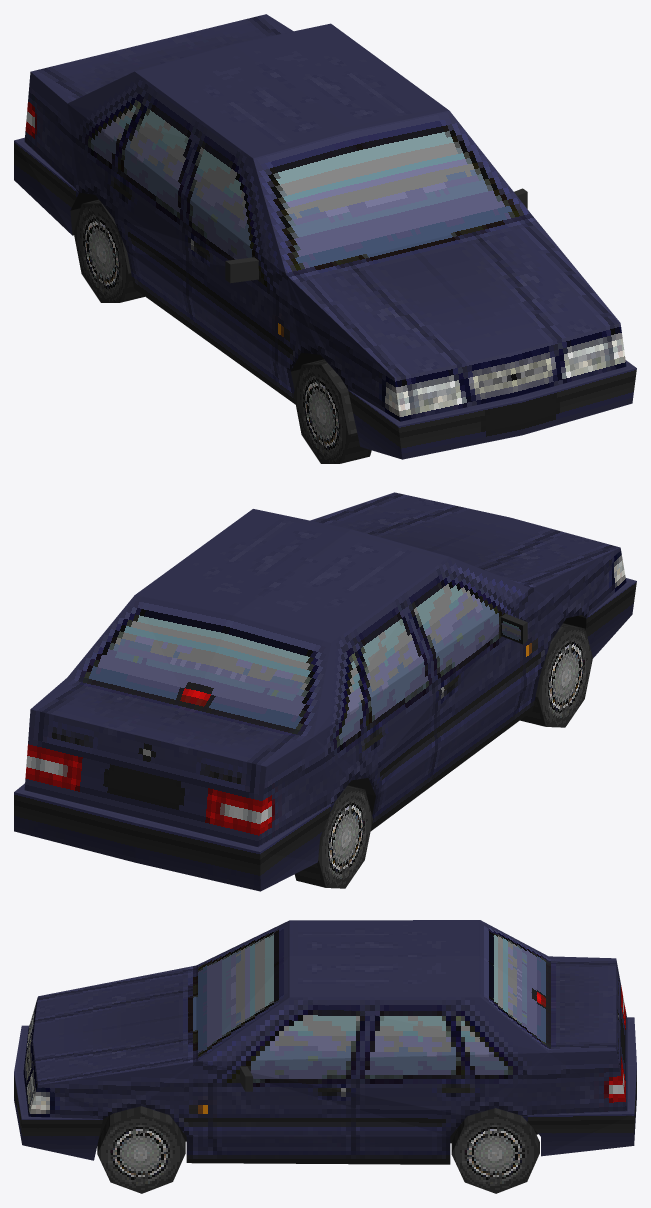
File: Sedan.glb
3 renders of one model, top to bottom at view 1: azimuth 30°, elevation 25°; view 2: azimuth 150°, elevation 25°; view 3: azimuth 270°, elevation 25°, orthographic. The views are drawn at different scales.
Parts seen in each view (by area): view 1: Car2; view 2: Car2; view 3: Car2.
Part boxes in pixels (x1,y1,x2,y2): Car2: (14,14,636,463); Car2: (14,492,636,891); Car2: (14,920,636,1193).
Bounding box in the file's own units: 2.9 × 2.2 × 6.53.
1 material, 1 textured.
